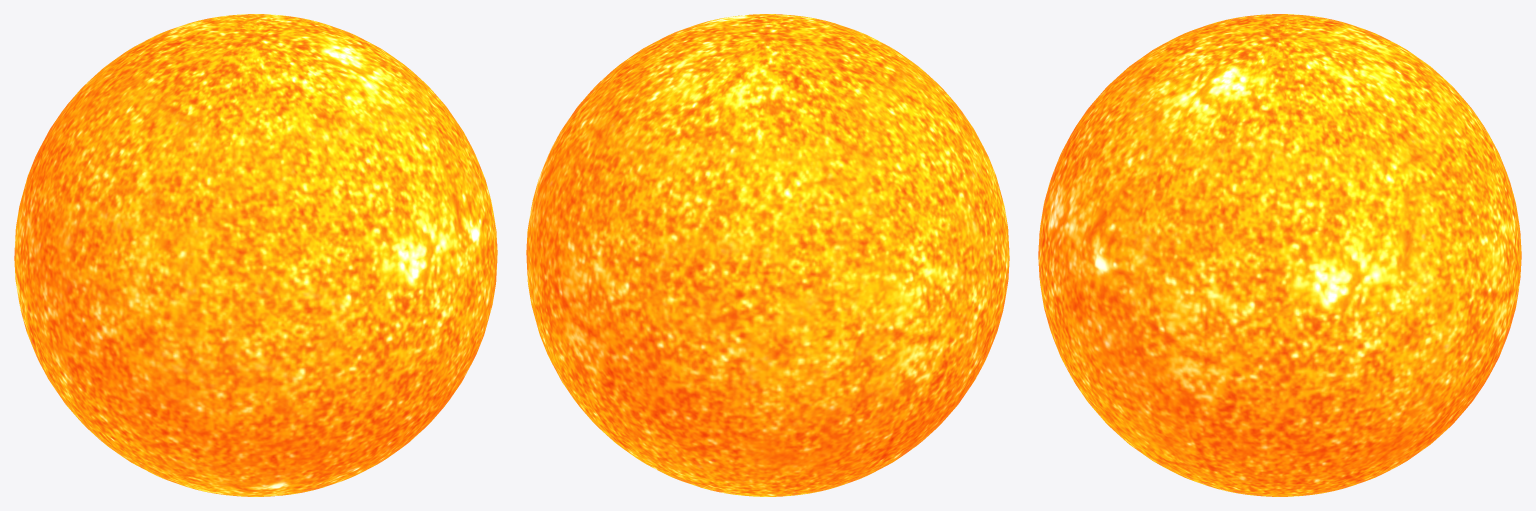
Rendered from sun3.glb.
3 renders of one model, left to right at view 1: azimuth 30°, elevation 25°; view 2: azimuth 150°, elevation 25°; view 3: azimuth 270°, elevation 25°, orthographic.
Visible parts, largest first — view 1: UnstableStarref; view 2: UnstableStarref; view 3: UnstableStarref.
Boxes of the visible parts, box(x1,y1,x2,y2) form: UnstableStarref: box(14, 14, 497, 496); UnstableStarref: box(526, 14, 1009, 496); UnstableStarref: box(1038, 14, 1521, 496).
Size of the model in its own units: 20.2 by 20.2 by 20.2.
2 materials, 2 textured.
